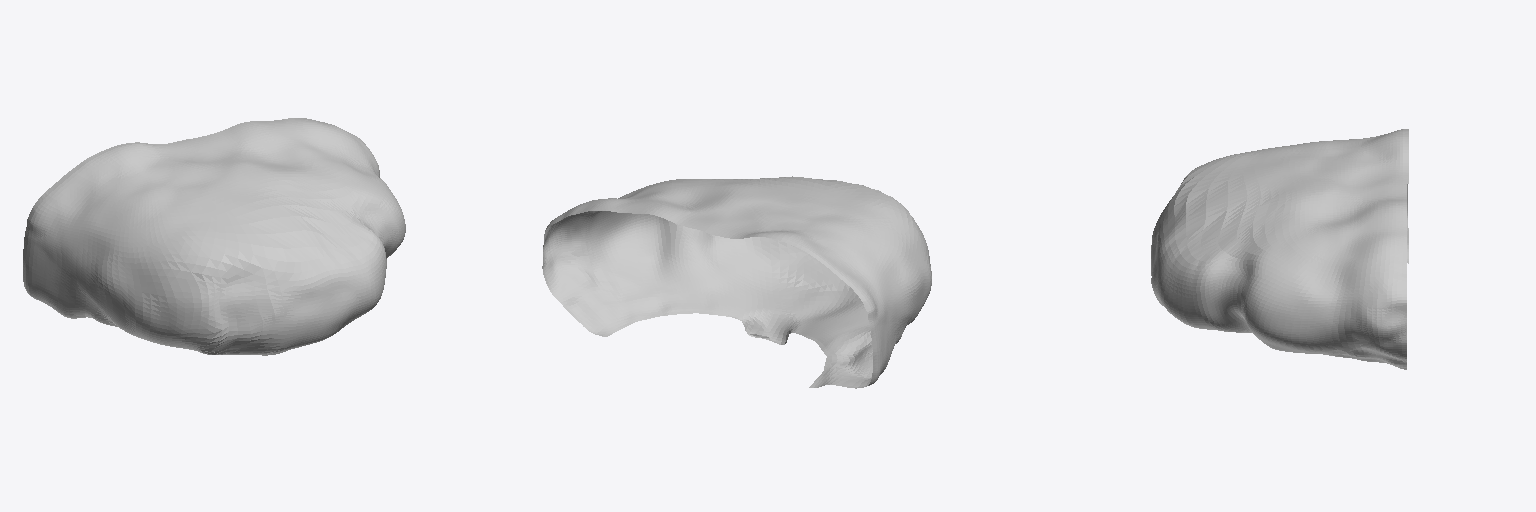
The model's file is grotte.obj.
The picture shows the model from 3 angles: view 1: azimuth 30°, elevation 25°; view 2: azimuth 150°, elevation 25°; view 3: azimuth 270°, elevation 25°; orthographic projection.
Parts seen in each view (by area): view 1: Grotte; view 2: Grotte; view 3: Grotte.
Part boxes in pixels (left/top/right/bottom): Grotte: left=23, top=118, right=405, bottom=355; Grotte: left=542, top=176, right=931, bottom=388; Grotte: left=1151, top=129, right=1408, bottom=369.
Bounding box in the file's own units: 359 × 166 × 236.